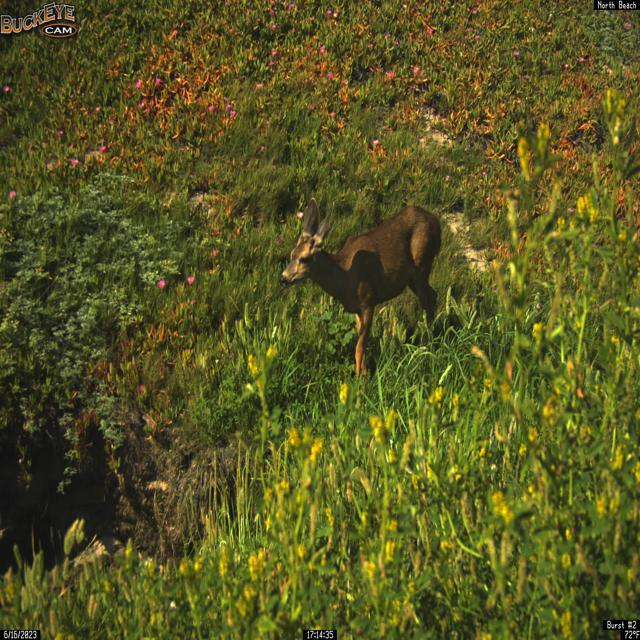deer: (279, 198, 442, 381)
